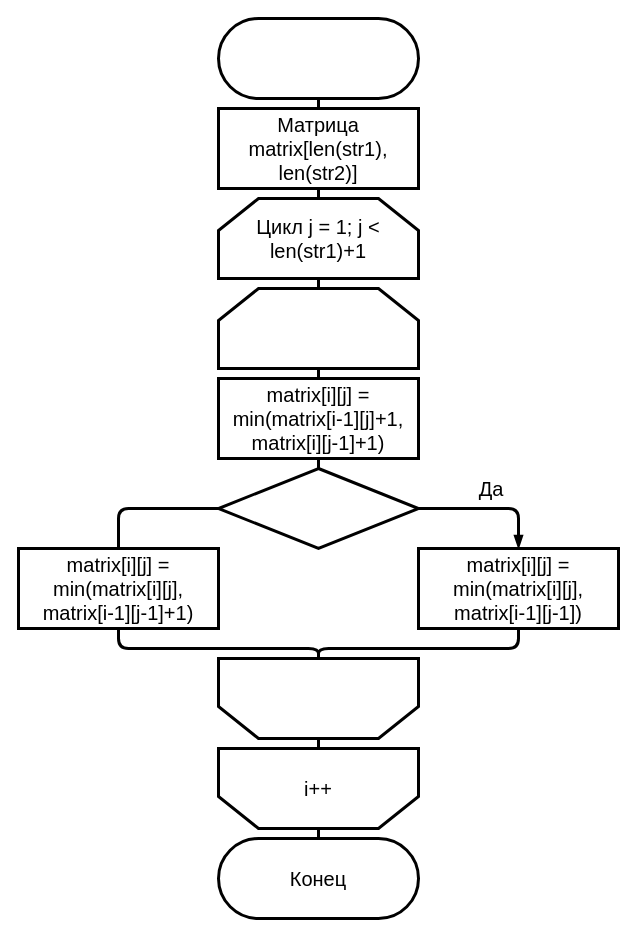
Some shapes in this 637 by 937 pixel diagram are drawn without their labels. Here are the shapes that lost their labels. From the top down, the box of each, then its label:
(216, 16, 420, 100): Начало
(216, 286, 420, 370): Цикл i = 1; i < len(str2)+1
(216, 466, 420, 550): str1[i-1] = str2[j-2]
(216, 656, 420, 740): j++
